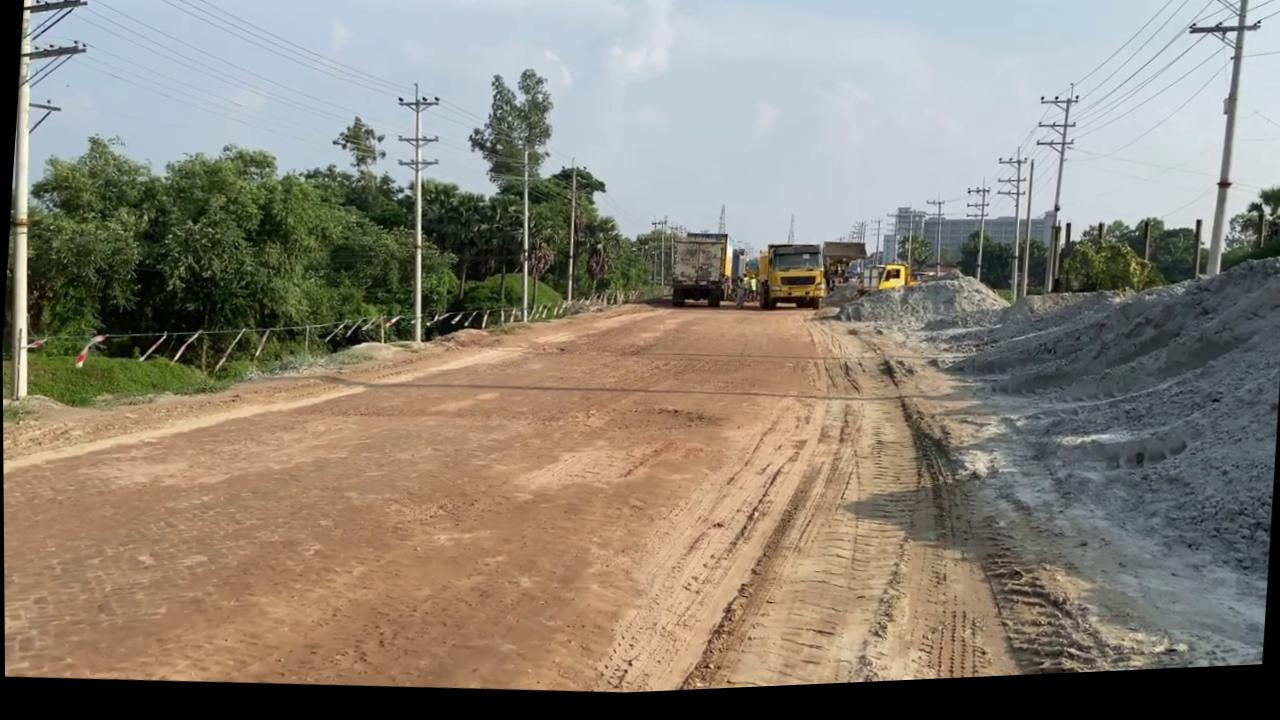Pole: (1170, 0, 1265, 291), (379, 84, 445, 348), (0, 75, 48, 400), (1025, 91, 1081, 304), (511, 152, 539, 326), (560, 169, 581, 308)
Traffic-sign: (455, 66, 561, 328)
Tree: (750, 245, 830, 320), (666, 234, 734, 317), (854, 266, 919, 308), (820, 245, 868, 301), (823, 263, 851, 299)
